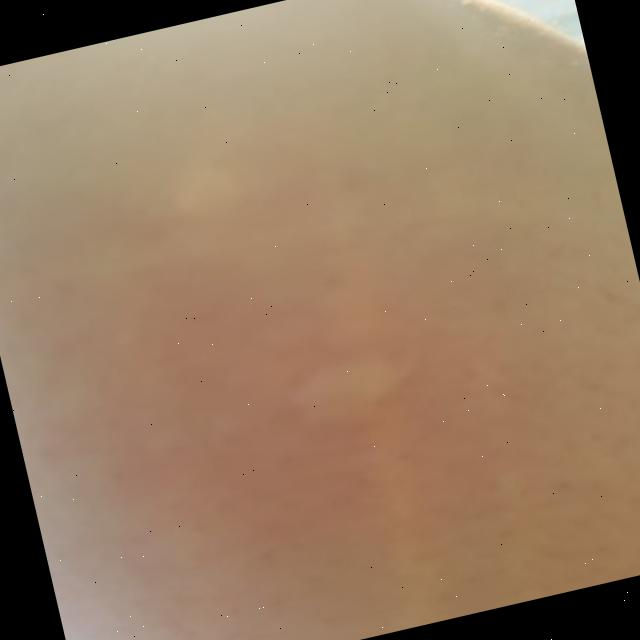sinek: (206, 299, 467, 496)
